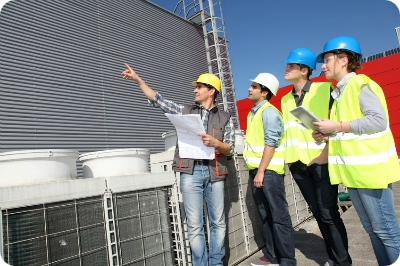epi: (320, 35, 400, 259), (152, 70, 234, 266), (282, 46, 345, 261), (241, 70, 286, 266)
